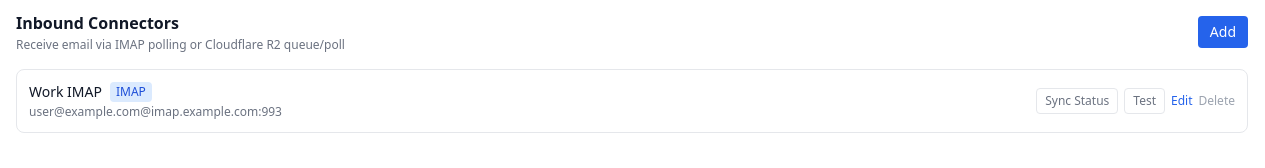
Test: InboundConnectorsTab › tests an inbound connector and shows OK result
The width and height of the screenshot is (1265, 168).
Expected: the text "Work IMAP" is shown, [29,82,102,102]
Click the button "Test": (1145, 101) [1124,88,1165,114]
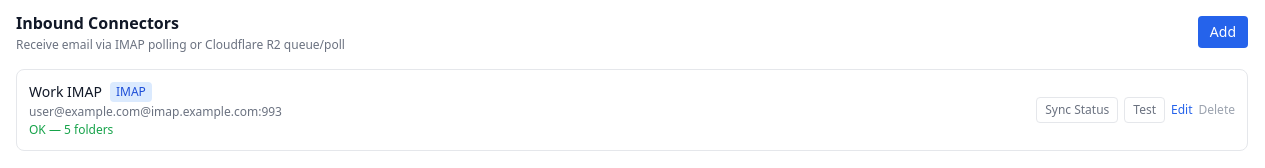
Expected: the text "OK — 5 folders" is shown, [29,121,113,138]
